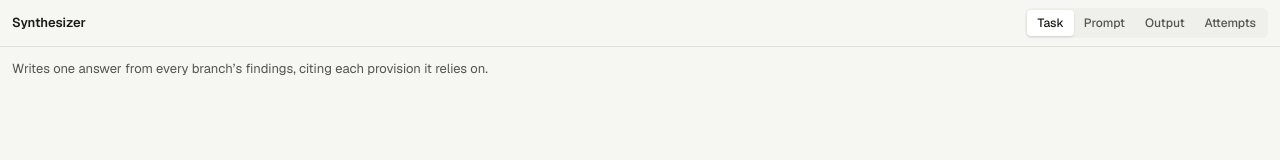
it: the synthesizer's drafts › counts a citation that does not say what it is cited for as a problem with its draft
Click the tab "Output" at (1165, 23), box top-left (1135, 10), bottom-right (1194, 36)
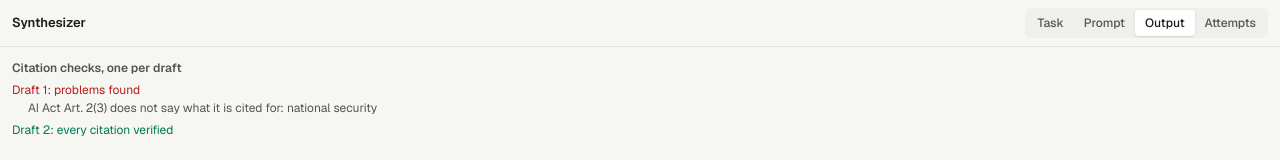
Check: the text "Draft 1: problems found" is shown, box top-left (12, 82), bottom-right (140, 98)
Check: the text "Draft 2: every citation verified" is shown, box top-left (12, 122), bottom-right (173, 138)
Check: the text "does not say what it is cited for" reads "AI Act Art. 2(3) does not say what it is cited for: national security", box top-left (28, 100), bottom-right (377, 116)
